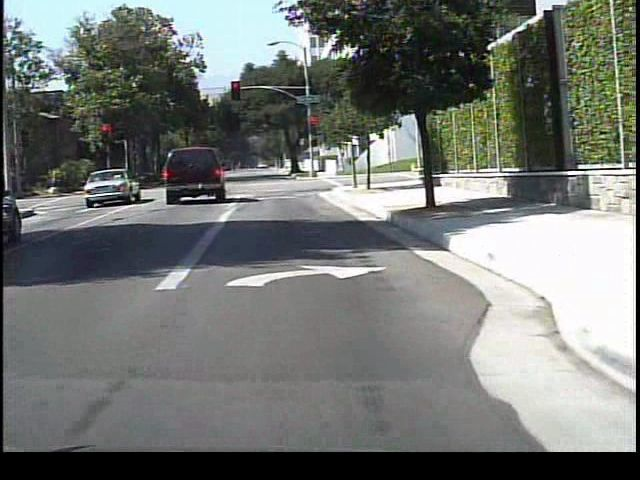person: (335, 147, 350, 174)
